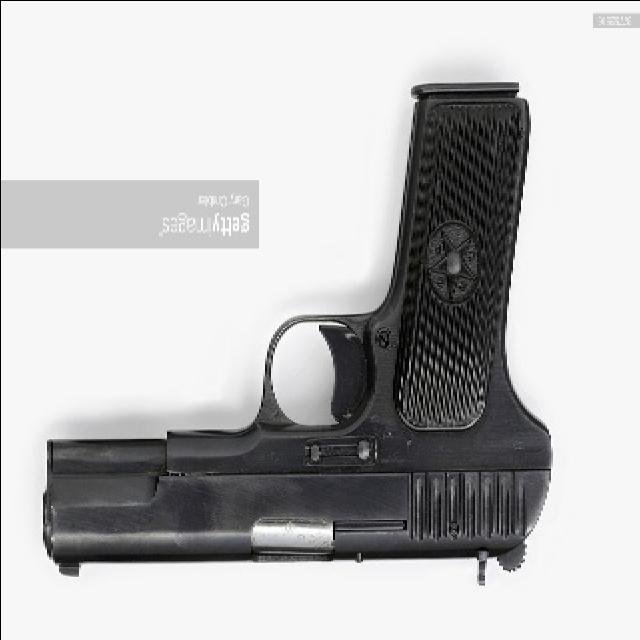handgun: (45, 84, 559, 592)
